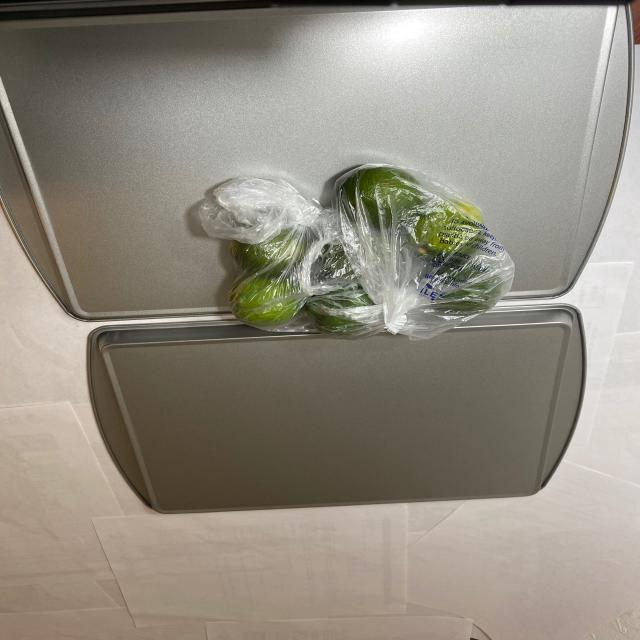lemon: (217, 172, 500, 336)
